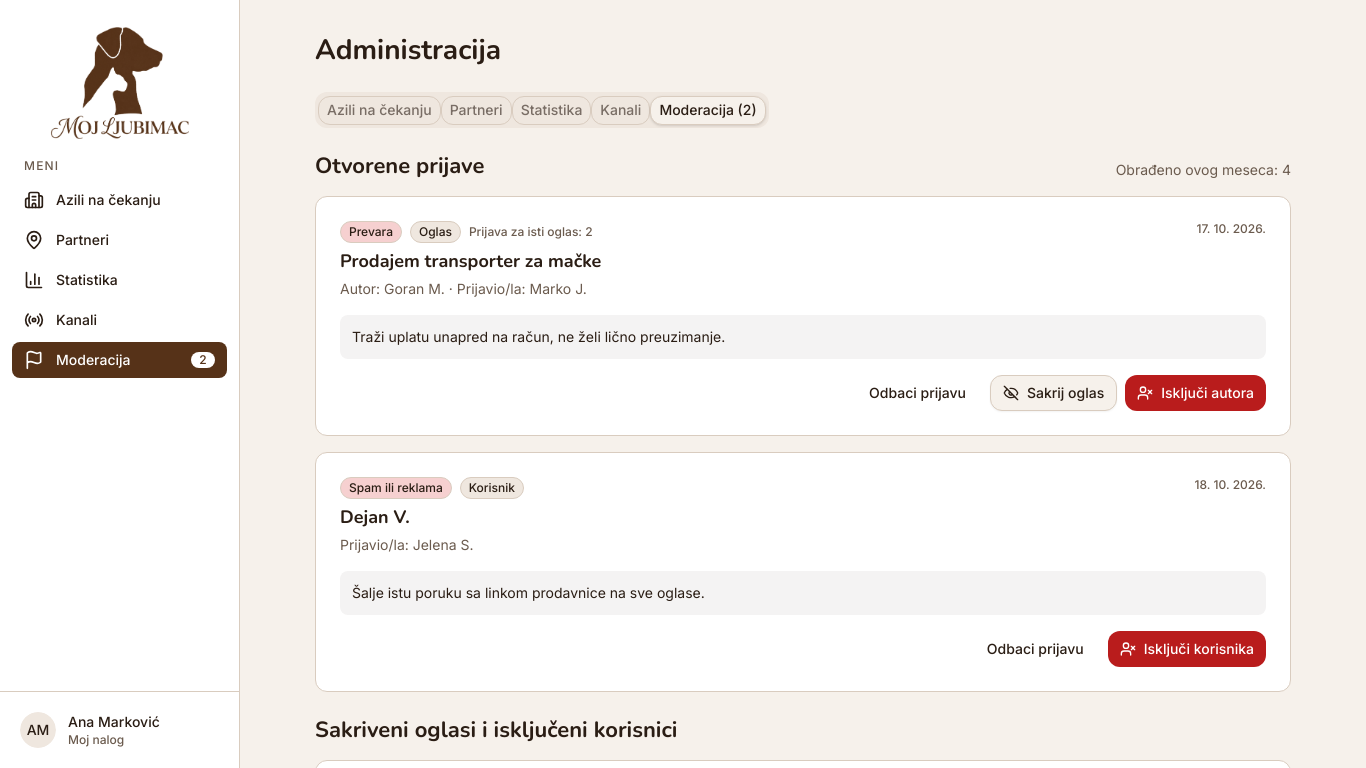
Test: FR-71 #2–#5 — decisions › #5: Odbaci prijavu dismisses and the list is read again
The width and height of the screenshot is (1366, 768).
Click the button "Odbaci prijavu" below "Prodajem transporter za mačke" at {"x": 917, "y": 393}, box [853,375,982,411]
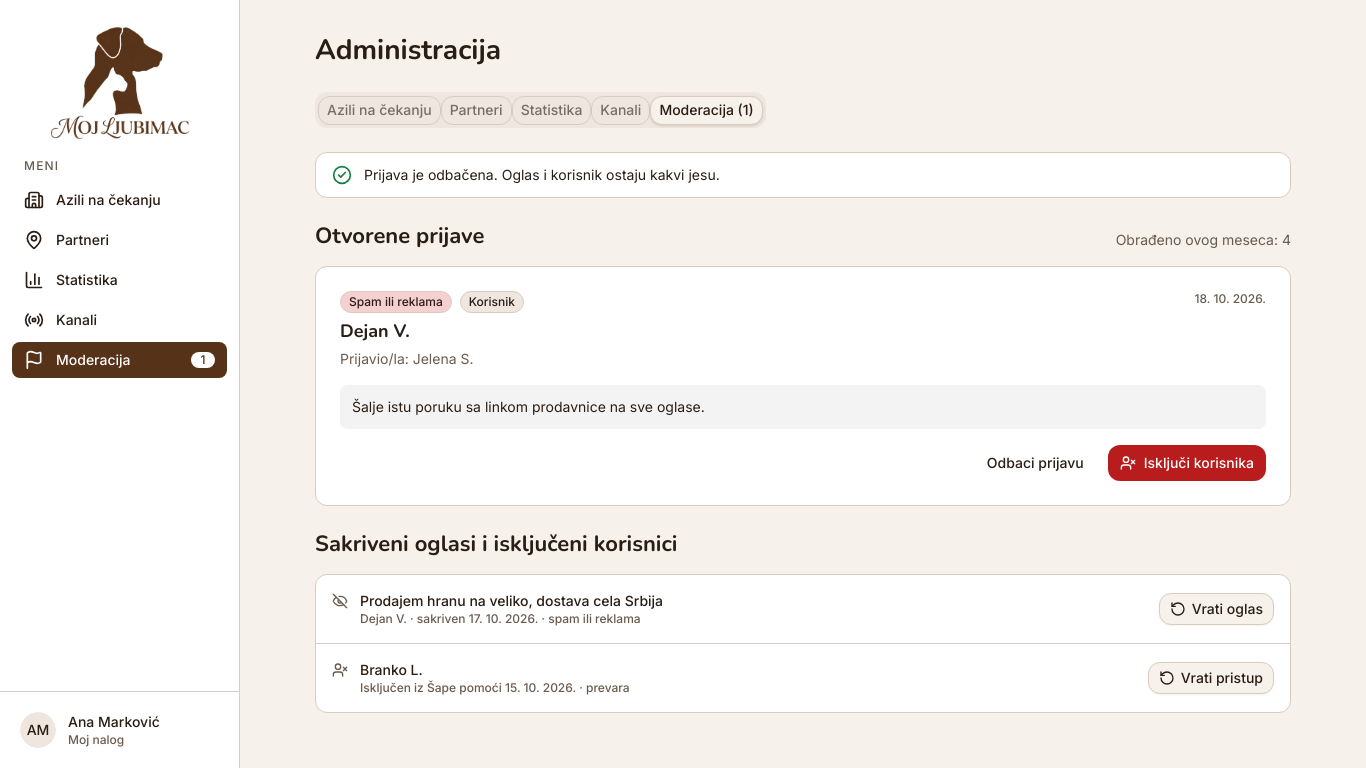
Expected: the text "Prijava je odbačena. Oglas i korisnik ostaju kakvi jesu." is shown, [364,165,720,185]
